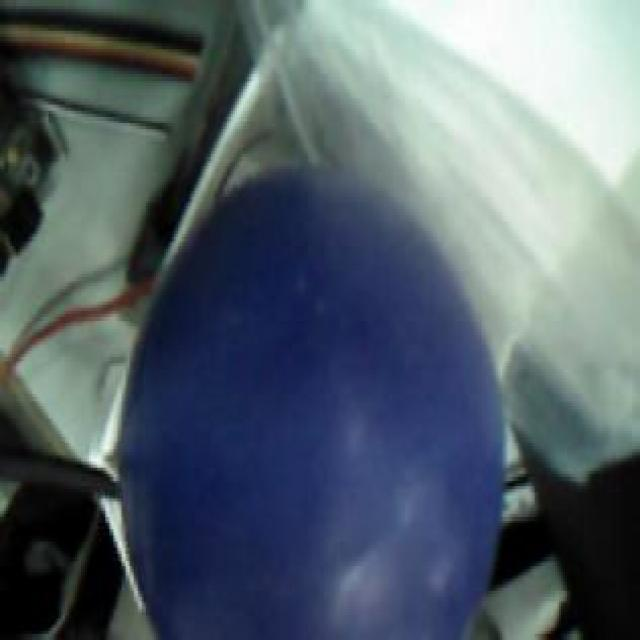BallPurple: (119, 170, 503, 640)
